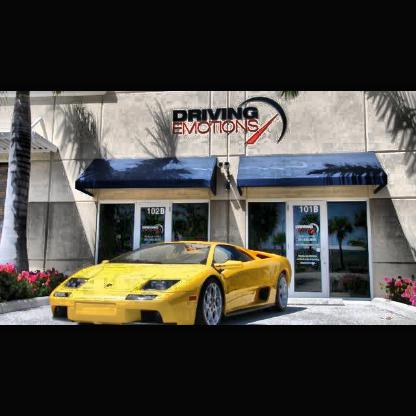Lamborghini Diablo Coupe 2001: (48, 239, 296, 325)
